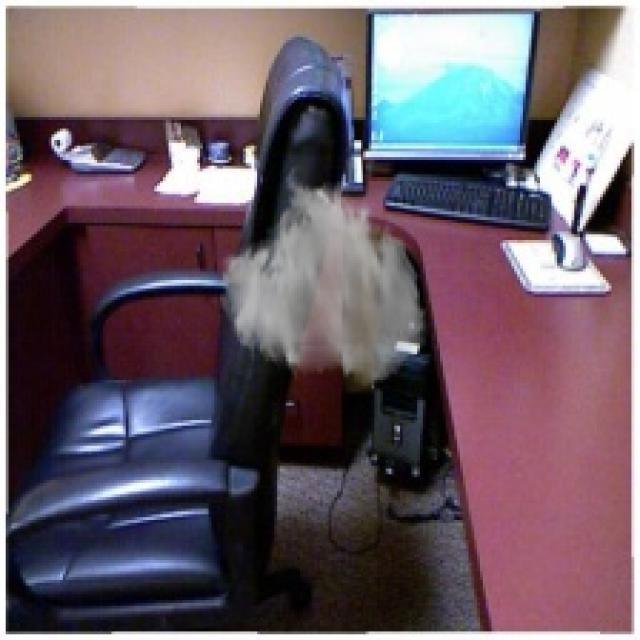smoke: (217, 172, 429, 388)
